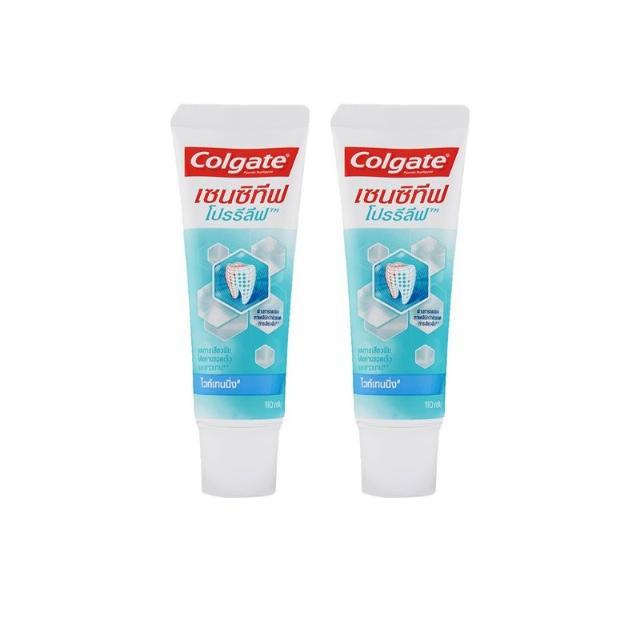Squeeze Tube: (171, 74, 480, 518)
